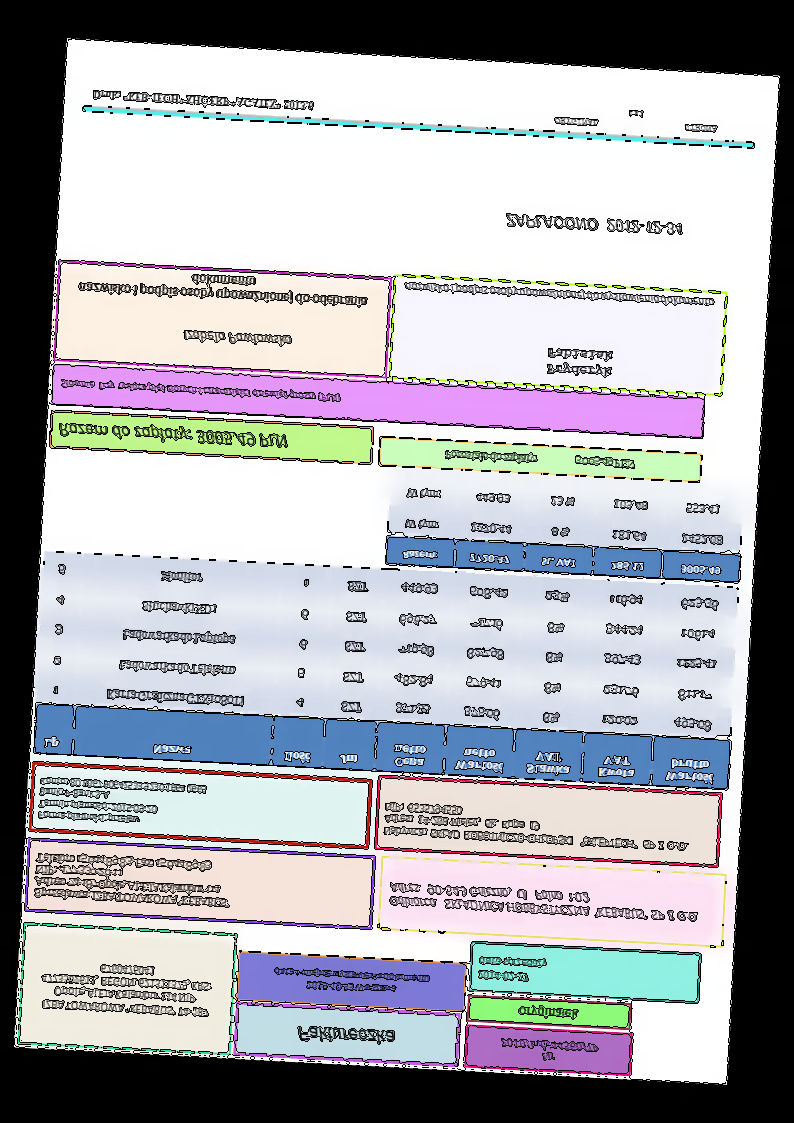Table: (32, 549, 740, 791), (383, 473, 746, 585)
TextBox: (382, 800, 692, 854), (385, 880, 702, 925), (31, 849, 234, 912), (77, 266, 369, 309), (37, 959, 214, 1021), (402, 279, 716, 312), (35, 776, 207, 830), (59, 377, 343, 404), (56, 421, 290, 452), (89, 86, 317, 113), (271, 964, 432, 997), (503, 210, 686, 238), (553, 105, 719, 135), (442, 447, 637, 472), (497, 1033, 601, 1066), (544, 346, 617, 380), (296, 1024, 396, 1048), (476, 952, 548, 984), (181, 328, 294, 348), (515, 1003, 581, 1022)
